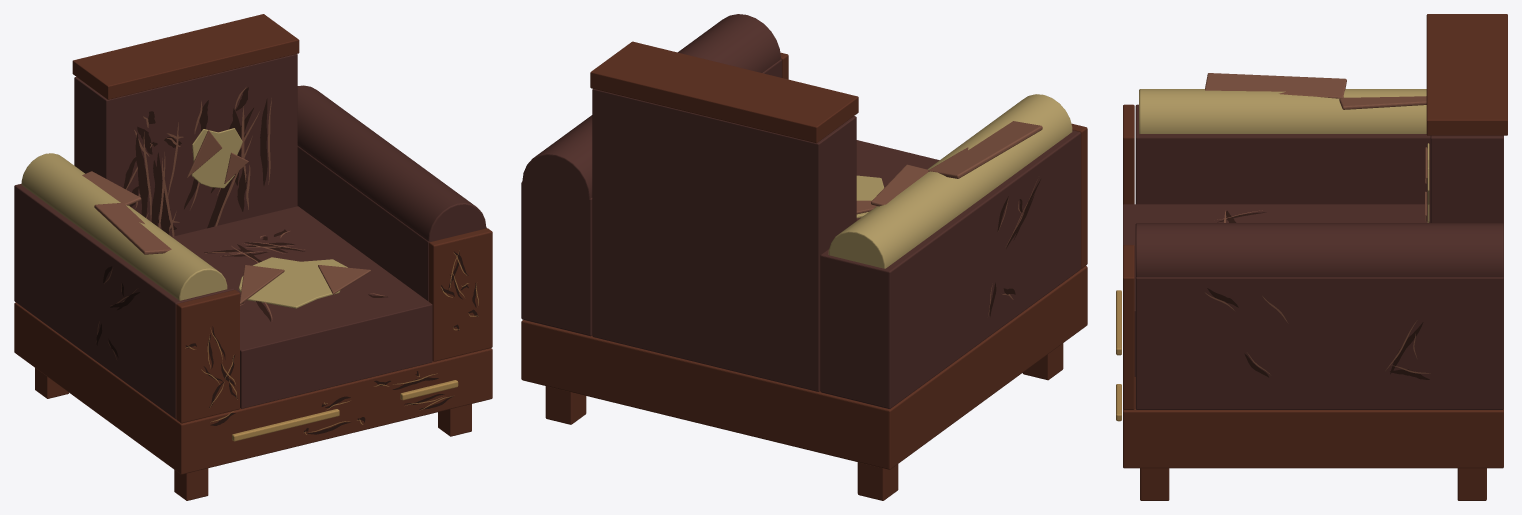
File: masterroom_sofa1.fbx
3 views of the same model, side by side, from view 1: azimuth 30°, elevation 25°; view 2: azimuth 150°, elevation 25°; view 3: azimuth 270°, elevation 25° (orthographic). The views are drawn at different scales.
Parts seen in each view (by area): view 1: 02_ReceptionSofa_Wrecked_Armchair_Left_Frame, 02_ReceptionSofa_Wrecked_Armchair_Left_Cushion; view 2: 02_ReceptionSofa_Wrecked_Armchair_Left_Frame, 02_ReceptionSofa_Wrecked_Armchair_Left_Cushion; view 3: 02_ReceptionSofa_Wrecked_Armchair_Left_Frame, 02_ReceptionSofa_Wrecked_Armchair_Left_Cushion.
Part boxes in pixels (x1,y1,x2,y2): 02_ReceptionSofa_Wrecked_Armchair_Left_Frame: [14, 85, 492, 500]; 02_ReceptionSofa_Wrecked_Armchair_Left_Cushion: [72, 14, 432, 408]; 02_ReceptionSofa_Wrecked_Armchair_Left_Frame: [521, 14, 1087, 500]; 02_ReceptionSofa_Wrecked_Armchair_Left_Cushion: [590, 41, 939, 391]; 02_ReceptionSofa_Wrecked_Armchair_Left_Frame: [1116, 73, 1503, 500]; 02_ReceptionSofa_Wrecked_Armchair_Left_Cushion: [1123, 14, 1507, 376].
Size of the model in its own units: 84.53 by 80.2 by 80.2.
